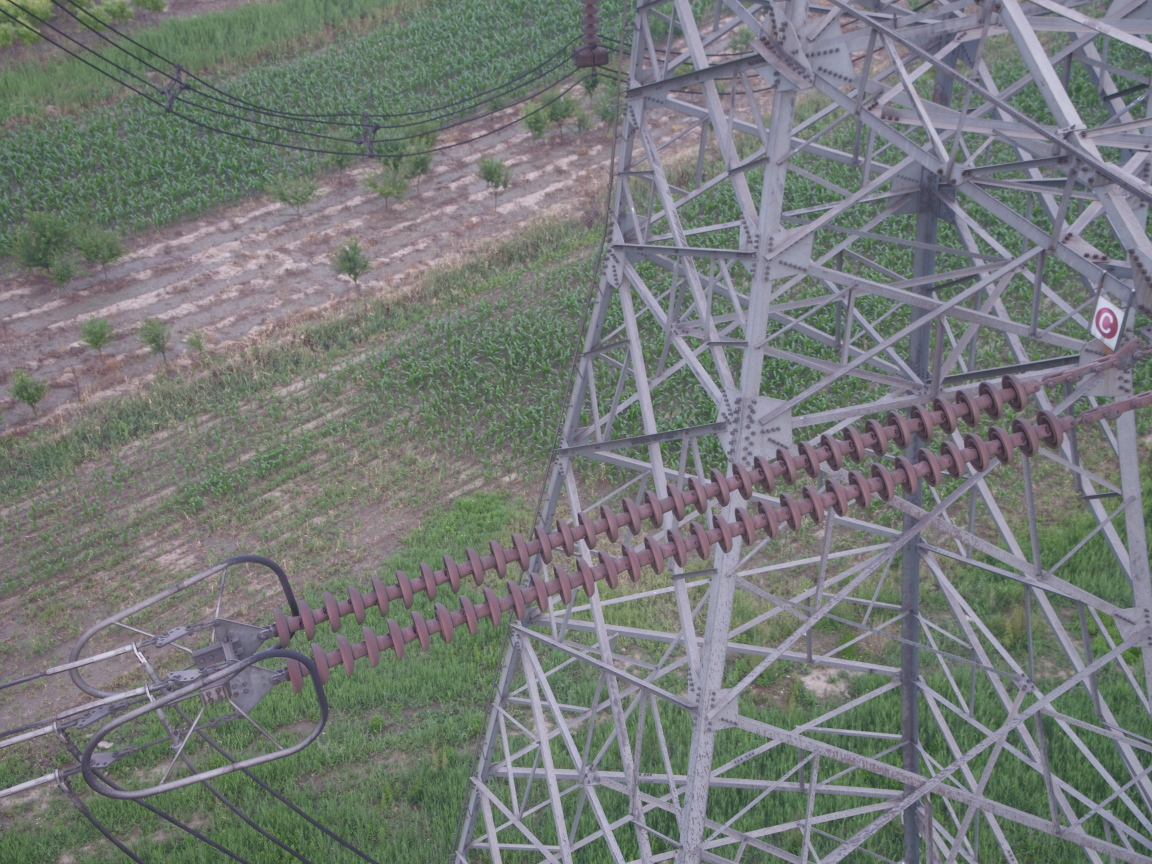insulator: (257, 363, 1129, 704)
